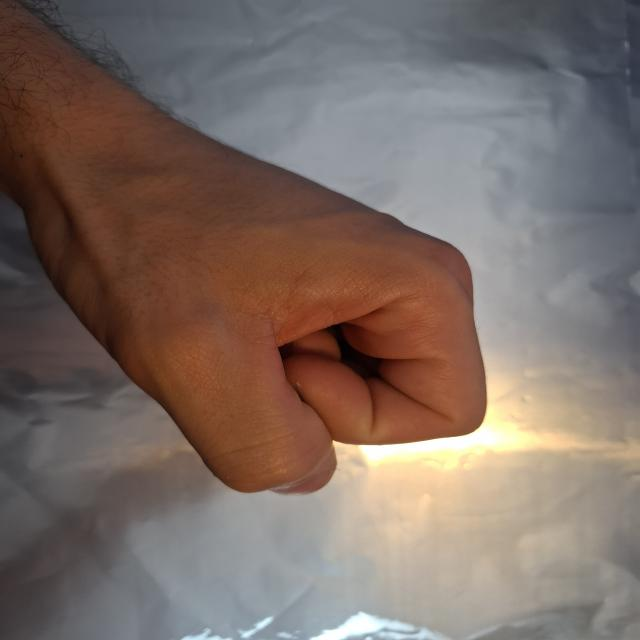glove_off: (14, 106, 491, 498)
